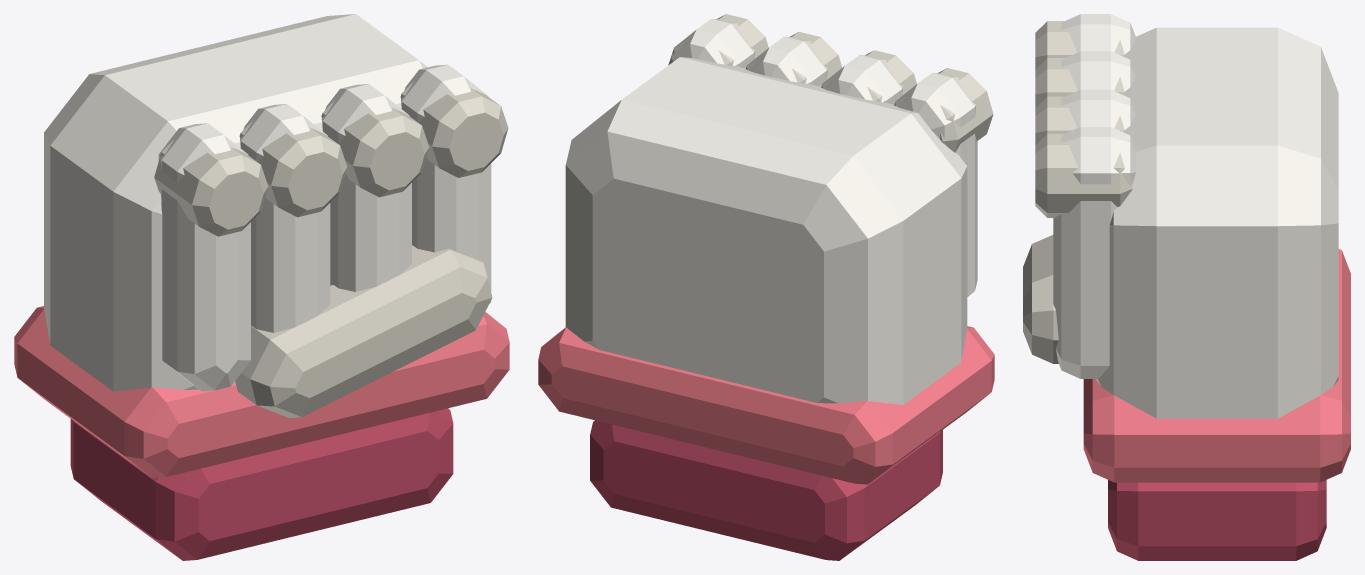
File: game-ui-icon-library-fist-glyph-8c59f529__19022.glb
3 renders of one model, left to right at view 1: azimuth 30°, elevation 25°; view 2: azimuth 150°, elevation 25°; view 3: azimuth 270°, elevation 25°, orthographic. The views are drawn at different scales.
Parts seen in each view (by area): view 1: fist-glyph; view 2: fist-glyph; view 3: fist-glyph.
Part boxes in pixels (bbox=[...]): fist-glyph: bbox=[14, 14, 509, 560]; fist-glyph: bbox=[538, 14, 994, 560]; fist-glyph: bbox=[1023, 14, 1350, 560].
Bounding box in the file's own units: 0.8436 × 0.94 × 0.6508.
